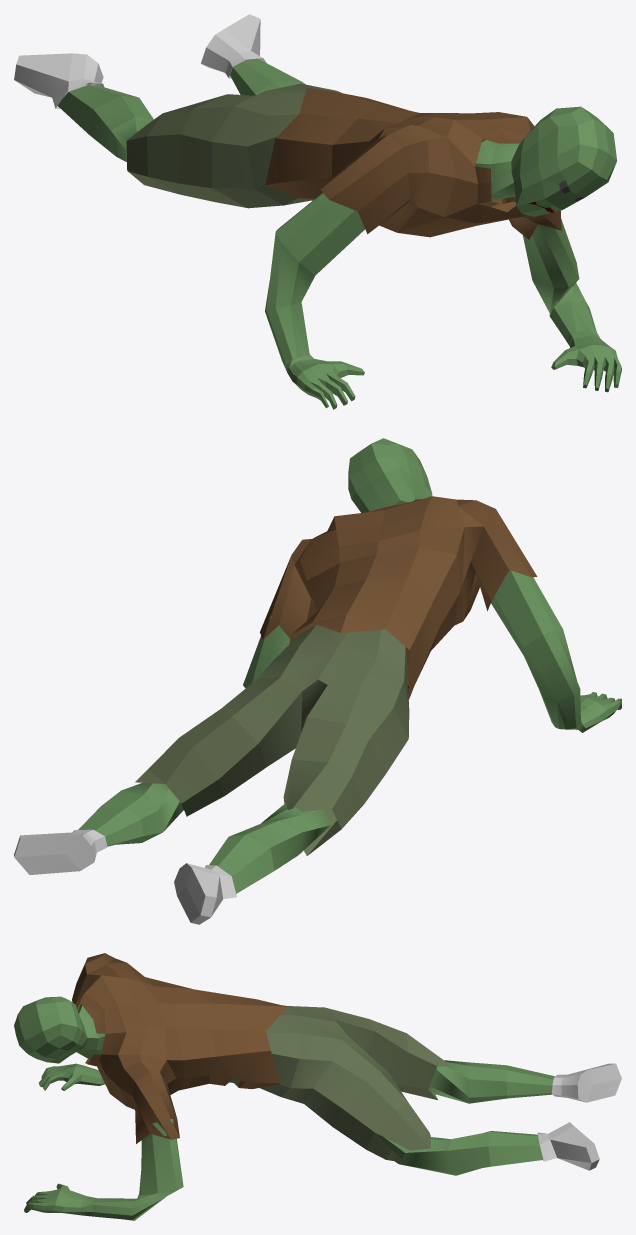
The model's file is ZombieCrawl(141).obj.
3 views of the same model, one above another, from view 1: azimuth 30°, elevation 25°; view 2: azimuth 150°, elevation 25°; view 3: azimuth 270°, elevation 25° (orthographic). The views are drawn at different scales.
Visible parts, largest first — view 1: Object001; view 2: Object001; view 3: Object001.
Boxes of the visible parts, bbox=[...] form: Object001: bbox=[14, 14, 621, 409]; Object001: bbox=[14, 438, 621, 924]; Object001: bbox=[14, 953, 621, 1220].
Size of the model in its own units: 28.32 by 22.14 by 58.92.
